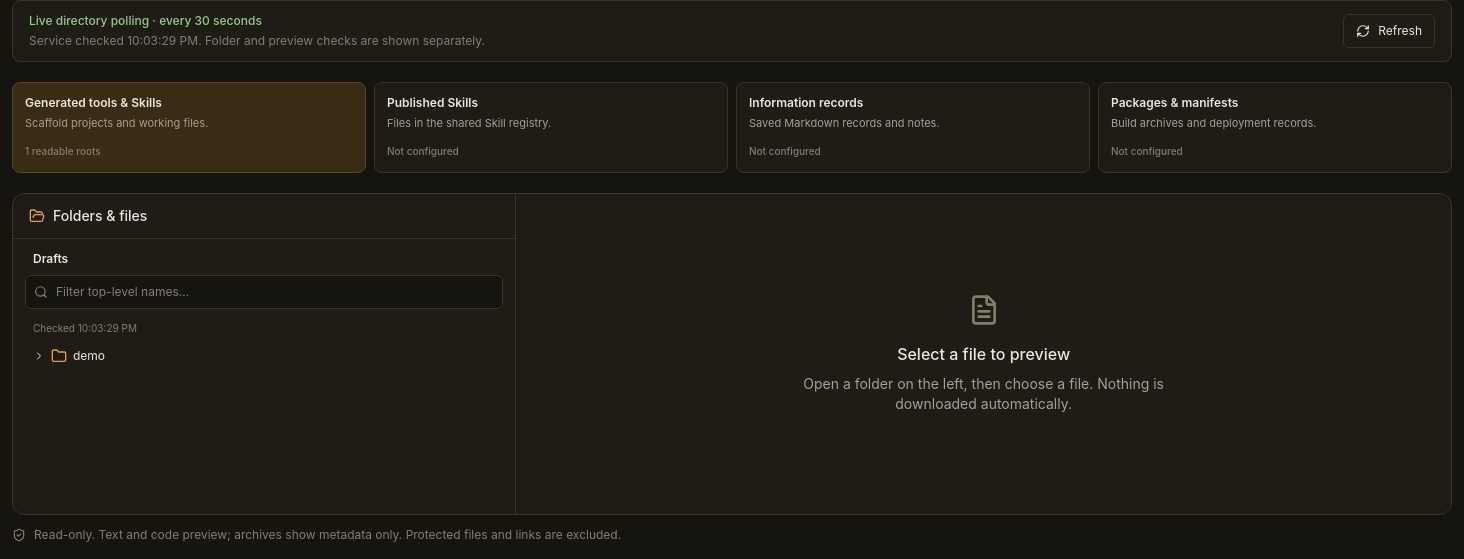
Test: Files live browser › manual refresh updates an open preview without navigation
Step 1. Click the button "demo" → (89, 356), box top-left (25, 340), bottom-right (503, 372)
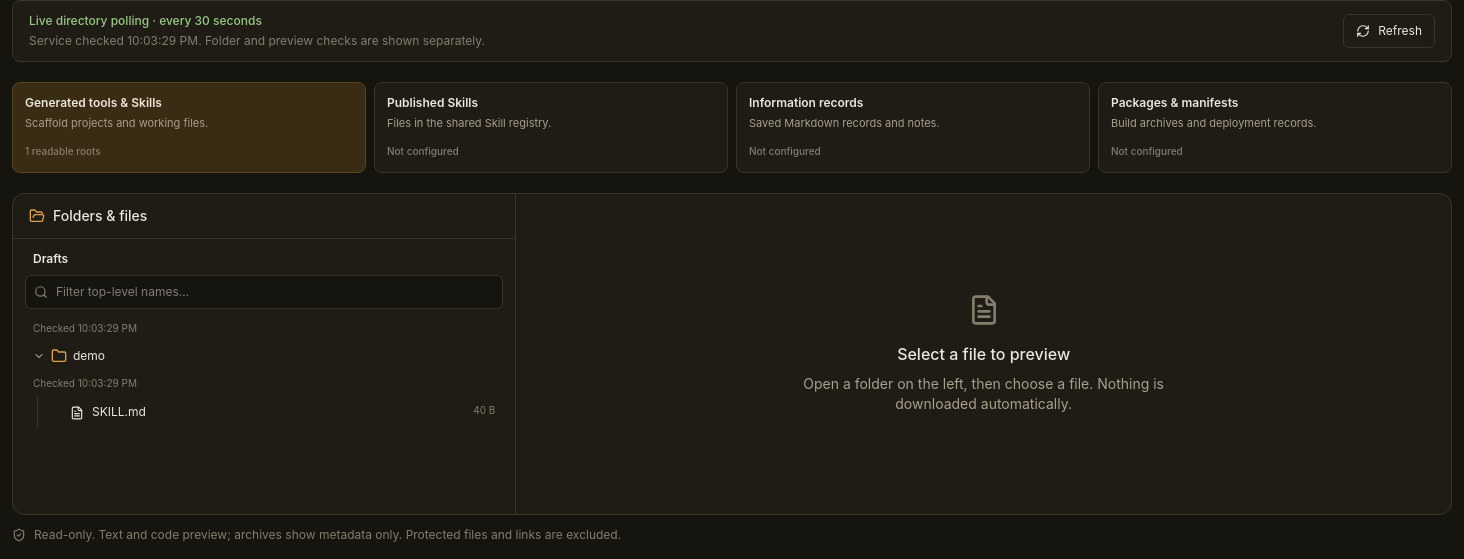
Step 2. Click the button "SKILL.md 40 B" → (119, 411), box top-left (46, 396), bottom-right (503, 428)
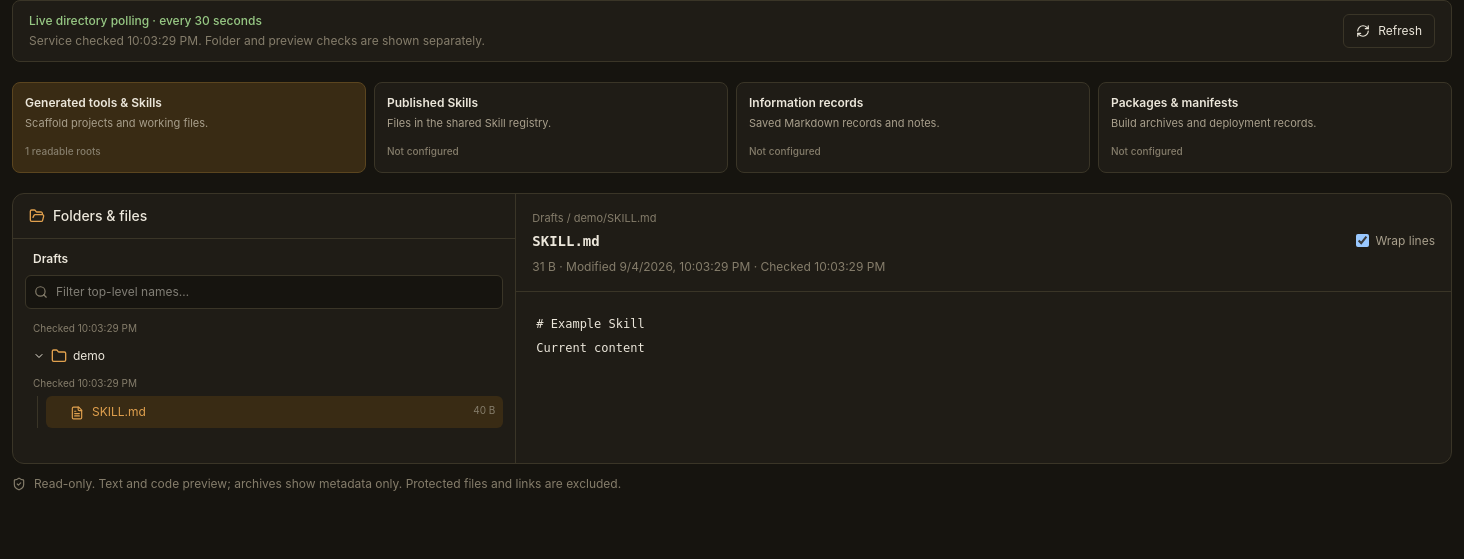
expect the element named "File content" is shown: met, box top-left (536, 317), bottom-right (645, 355)
Step 3. Click the button "Refresh" → (1389, 31), box top-left (1343, 14), bottom-right (1435, 48)
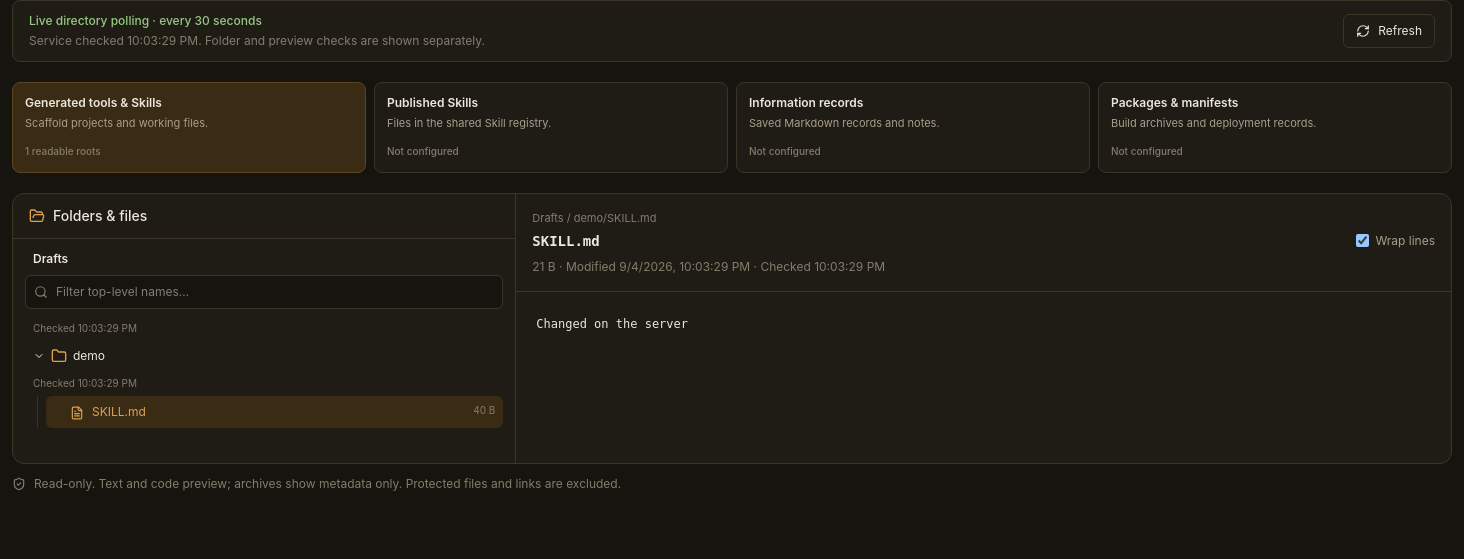
expect the element named "File content" reads "Changed on the server": met, box top-left (536, 317), bottom-right (688, 331)
